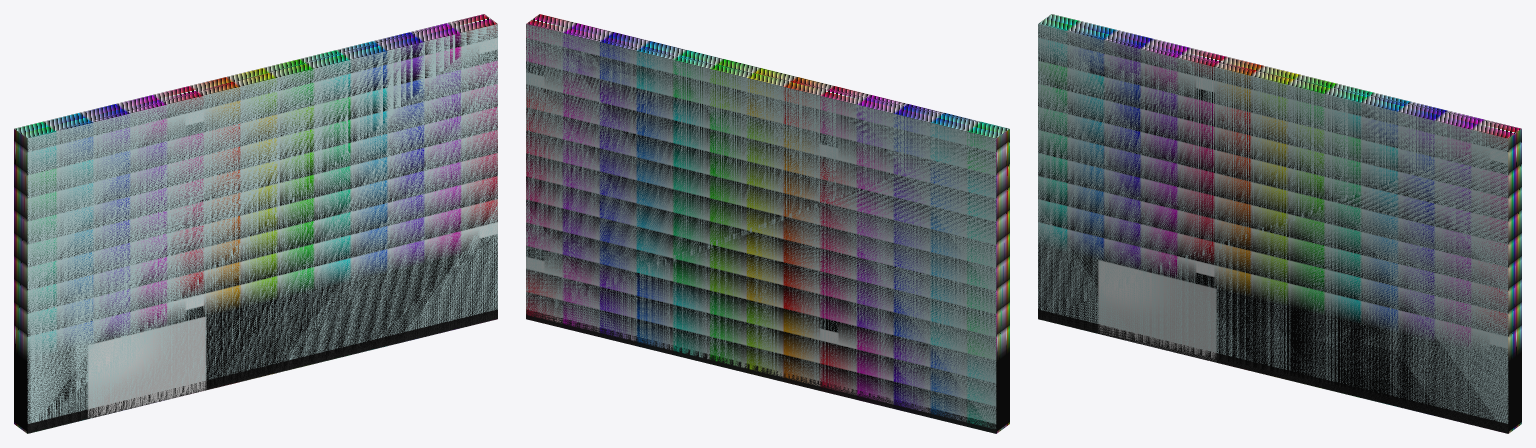
The model's file is interiorWall_line_5.fbx.
3 views of the same model, side by side, from view 1: azimuth 30°, elevation 25°; view 2: azimuth 150°, elevation 25°; view 3: azimuth 330°, elevation 25° (orthographic).
Parts seen in each view (by area): view 1: interiorWall_line_5, trigger; view 2: trigger, interiorWall_line_5; view 3: trigger, interiorWall_line_5.
Part boxes in pixels (left/top/right/bottom): interiorWall_line_5: left=27, top=24, right=497, bottom=433; trigger: left=14, top=14, right=497, bottom=433; trigger: left=526, top=14, right=1009, bottom=433; interiorWall_line_5: left=526, top=24, right=996, bottom=433; trigger: left=1038, top=14, right=1521, bottom=433; interiorWall_line_5: left=1038, top=24, right=1508, bottom=433.
Size of what is drawn, in the model's own units: 500 by 300 by 25.
